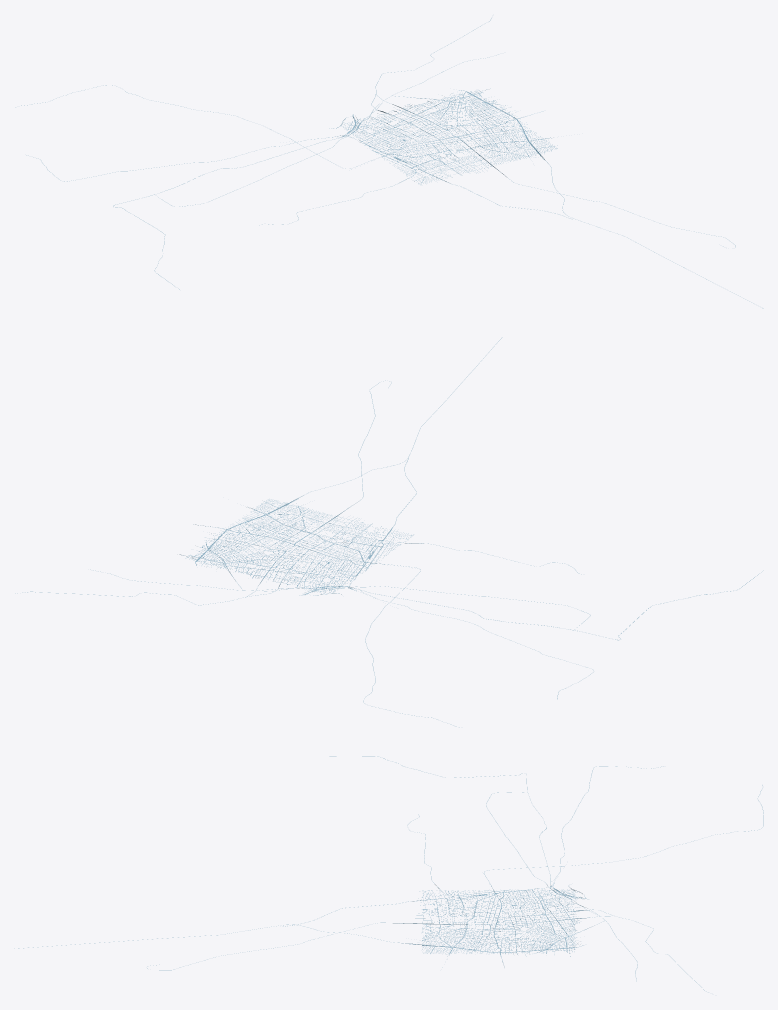
Rendered from roads.glb.
3 renders of one model, top to bottom at view 1: azimuth 30°, elevation 25°; view 2: azimuth 150°, elevation 25°; view 3: azimuth 270°, elevation 25°, orthographic. The views are drawn at different scales.
Visible parts, largest first — view 1: roads; view 2: roads; view 3: roads.
Boxes of the visible parts, x1,y1,x2,y2 form: roads: [15, 18, 763, 308]; roads: [15, 337, 763, 727]; roads: [14, 756, 763, 992].
Bounding box in the file's own units: 21059 × 112 × 27816.
